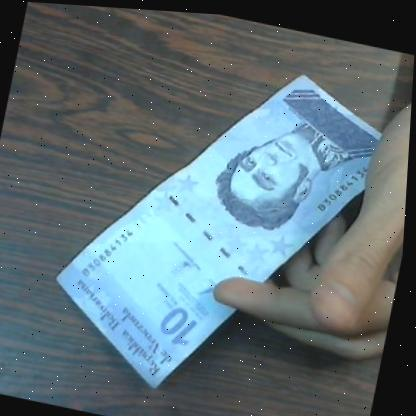ten-front-vef: (38, 31, 391, 416)
